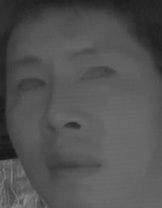eye: (76, 64, 120, 86), (12, 73, 49, 98)
mouth: (42, 147, 106, 183)
